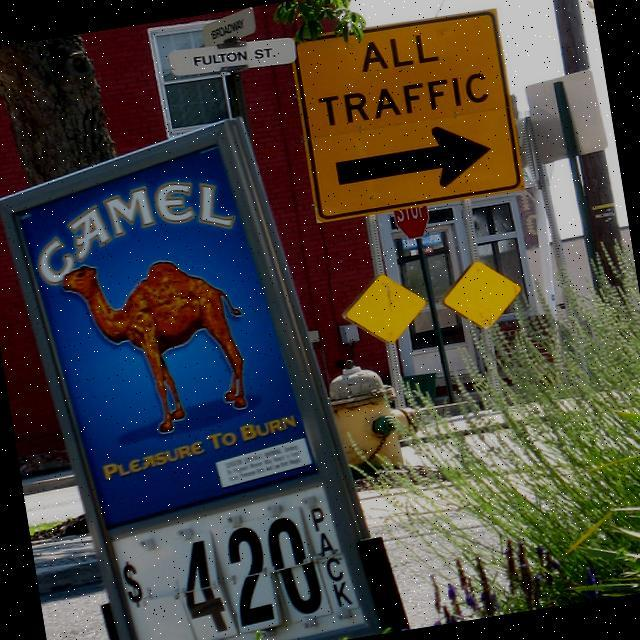fire_hydrant: (323, 350, 422, 474)
